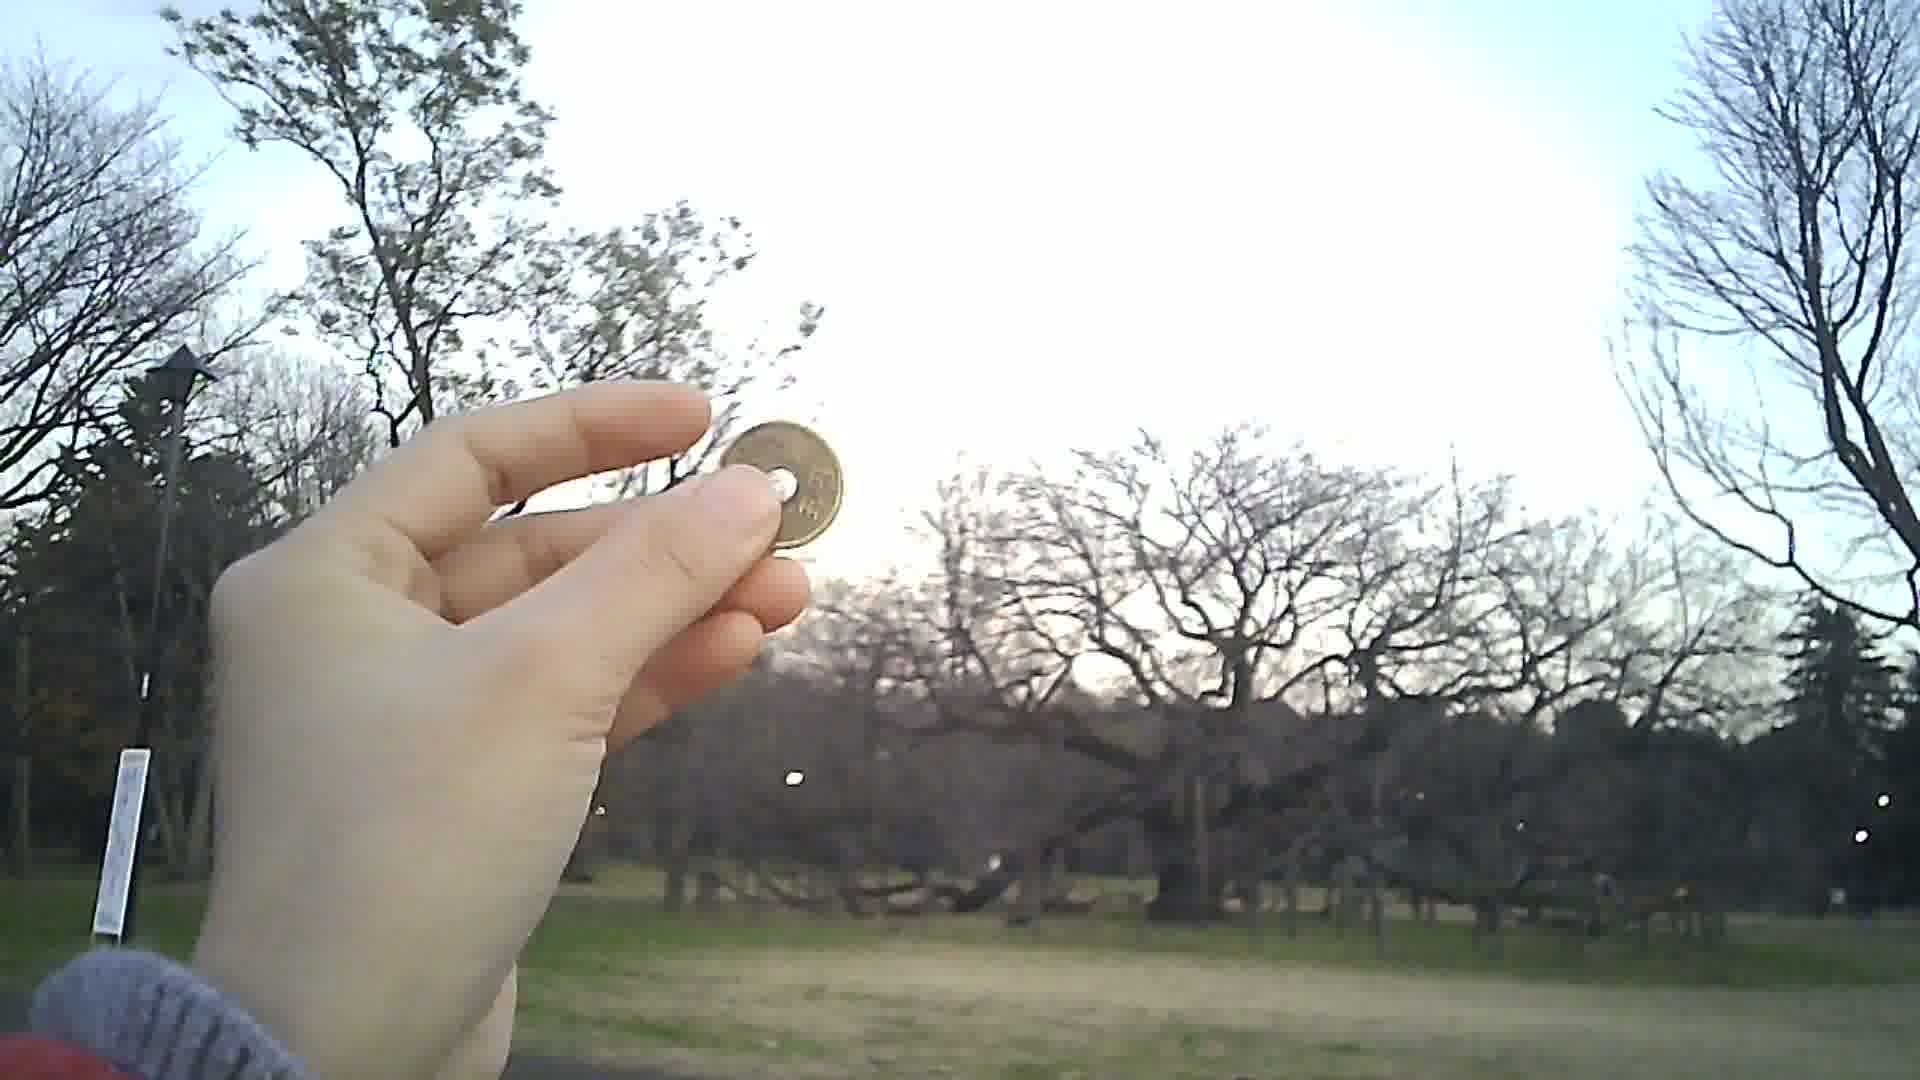5 Yen: (709, 415, 857, 545)
